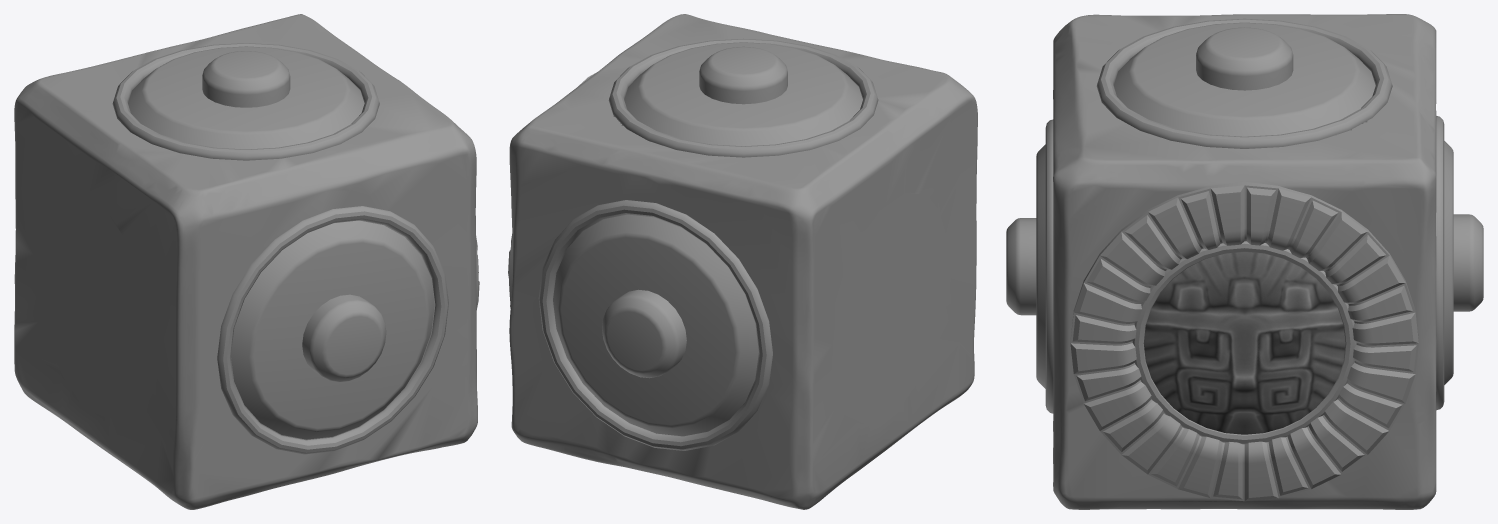
Rendered from GodBlock.FBX.
3 views of the same model, side by side, from view 1: azimuth 30°, elevation 25°; view 2: azimuth 150°, elevation 25°; view 3: azimuth 270°, elevation 25° (orthographic). The views are drawn at different scales.
Parts seen in each view (by area): view 1: GodBody; view 2: GodBody; view 3: GodBody, GodFace.
Boxes of the visible parts, x1=… form: GodBody: x1=14, y1=14, x2=479, y2=509; GodBody: x1=508, y1=14, x2=977, y2=509; GodBody: x1=1006, y1=14, x2=1483, y2=509; GodFace: x1=1143, y1=252, x2=1345, y2=434.
Bounding box in the file's own units: 107 × 125 × 125.
2 materials, 1 textured.
